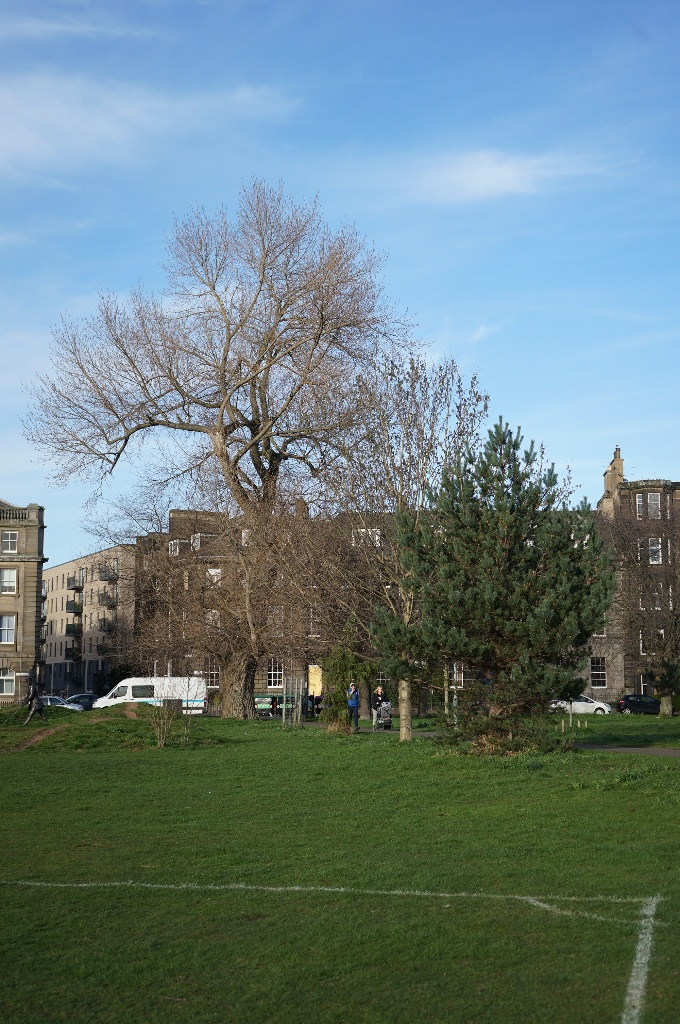Tree: (15, 171, 447, 737), (344, 396, 621, 804)
